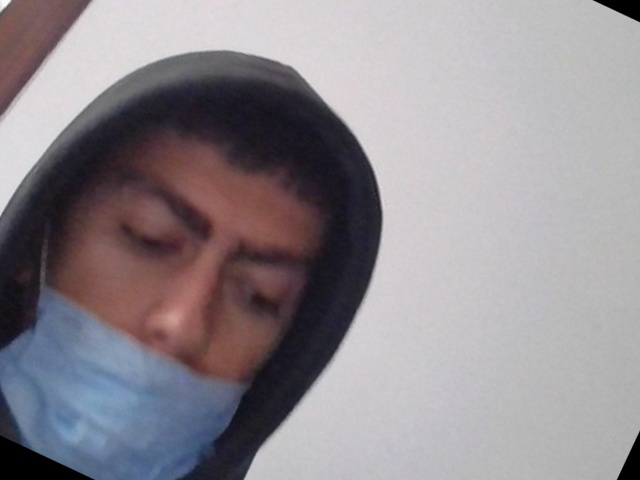mask_weared_incorrect: (6, 126, 314, 480)
